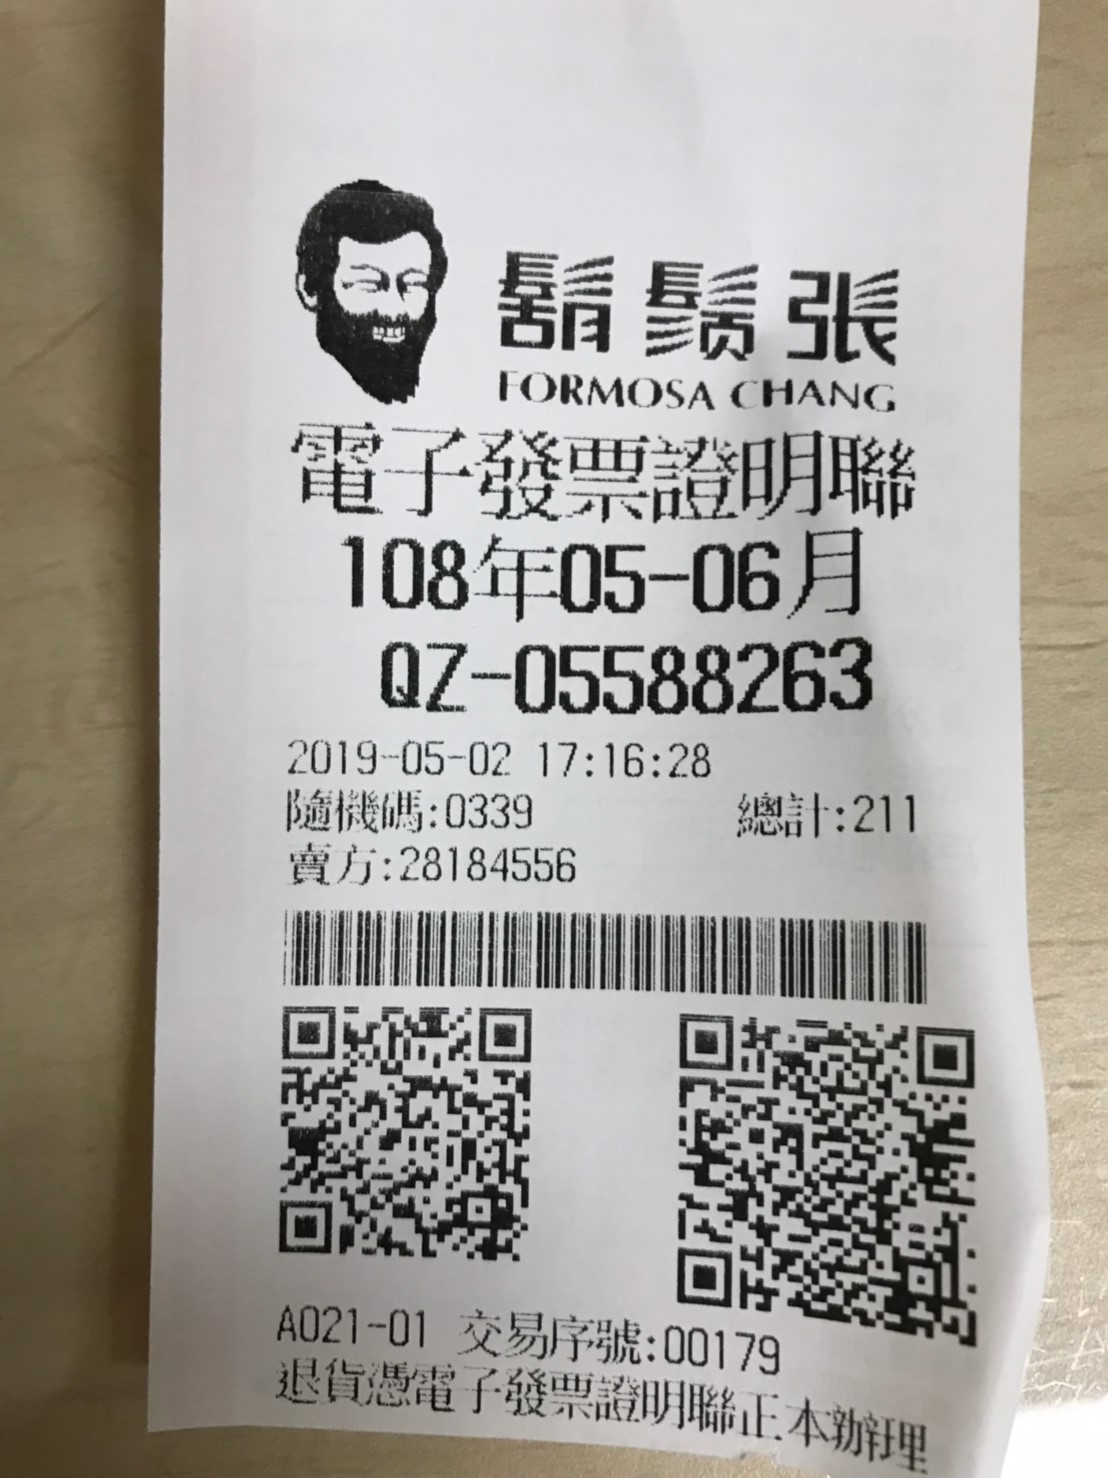Date_New: (335, 527, 864, 620)
Number_New: (514, 632, 876, 713)
